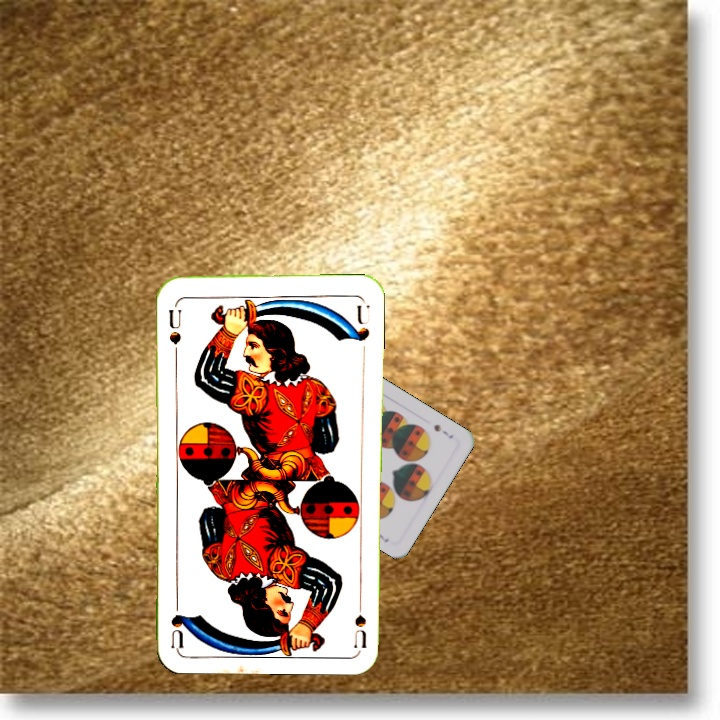S7: (430, 420, 456, 441)
SU: (350, 589, 369, 648), (165, 298, 184, 347)
